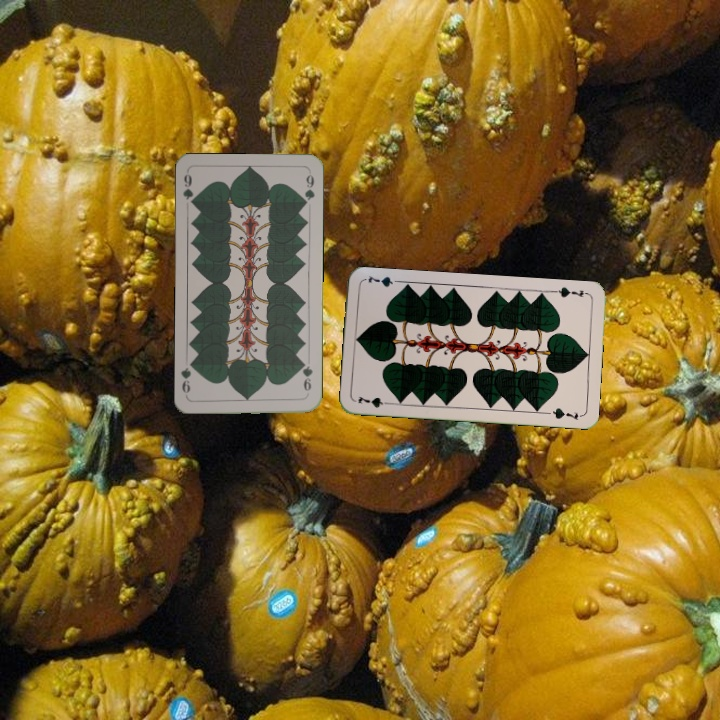G7: (354, 392, 394, 410), (550, 283, 590, 300)
G9: (179, 168, 198, 209), (298, 357, 315, 398)
